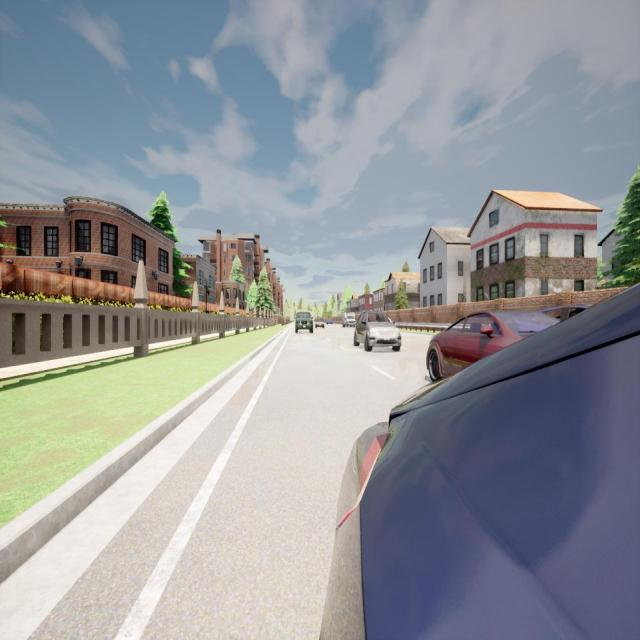Traffic_Signs: (276, 308, 280, 314)
Vehicle: (320, 284, 640, 638), (426, 314, 560, 382), (354, 310, 402, 352), (541, 304, 591, 322), (294, 312, 313, 333), (341, 312, 355, 327), (314, 318, 324, 329), (326, 320, 334, 324)
